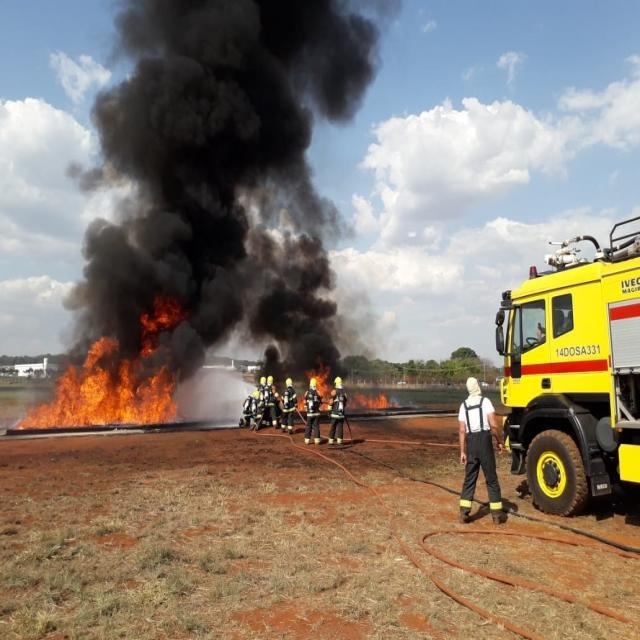Fire: (4, 293, 188, 431), (349, 390, 387, 410), (317, 364, 330, 411)
Smoke: (76, 0, 390, 289), (190, 291, 348, 367)
